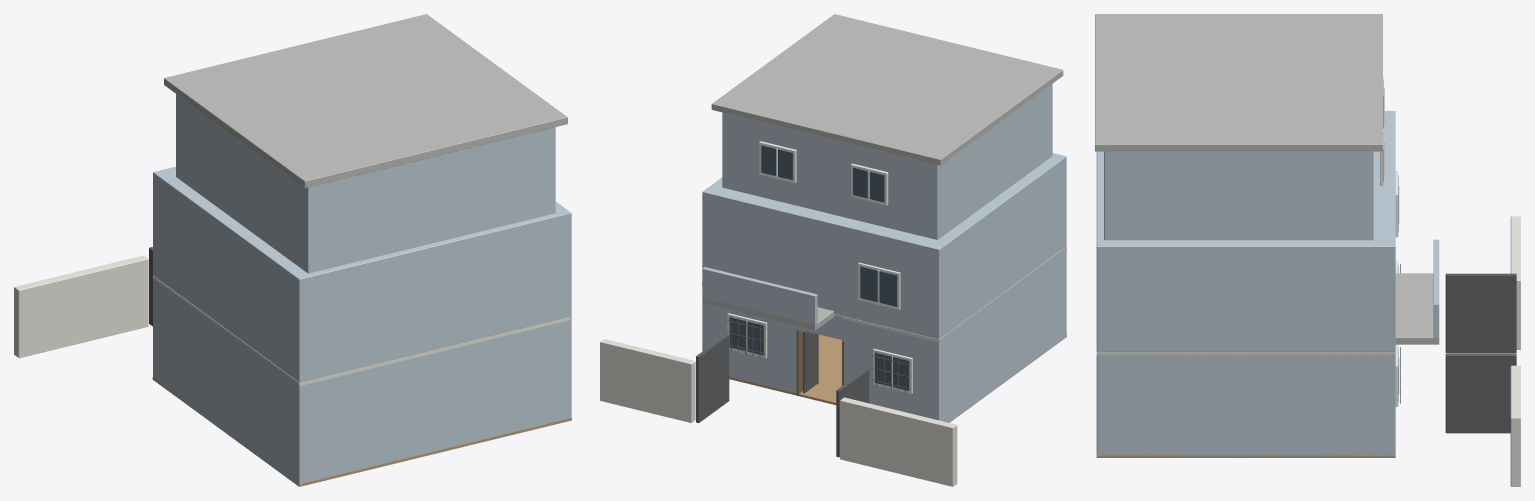
Rendered from Sultanbeyli_BlueApartman81.fbx.
The picture shows the model from 3 angles, left to right: view 1: azimuth 30°, elevation 25°; view 2: azimuth 150°, elevation 25°; view 3: azimuth 270°, elevation 25°; orthographic projection. The views are drawn at different scales.
Parts seen in each view (by area): view 1: Sultanbeyli_BlueApartman81; view 2: Sultanbeyli_BlueApartman81; view 3: Sultanbeyli_BlueApartman81.
Part boxes in pixels (<box>): Sultanbeyli_BlueApartman81: <box>14,14,571,486</box>; Sultanbeyli_BlueApartman81: <box>600,14,1066,486</box>; Sultanbeyli_BlueApartman81: <box>1095,14,1520,486</box>.
Bounding box in the file's own units: 13.1 × 9.46 × 11.69.
